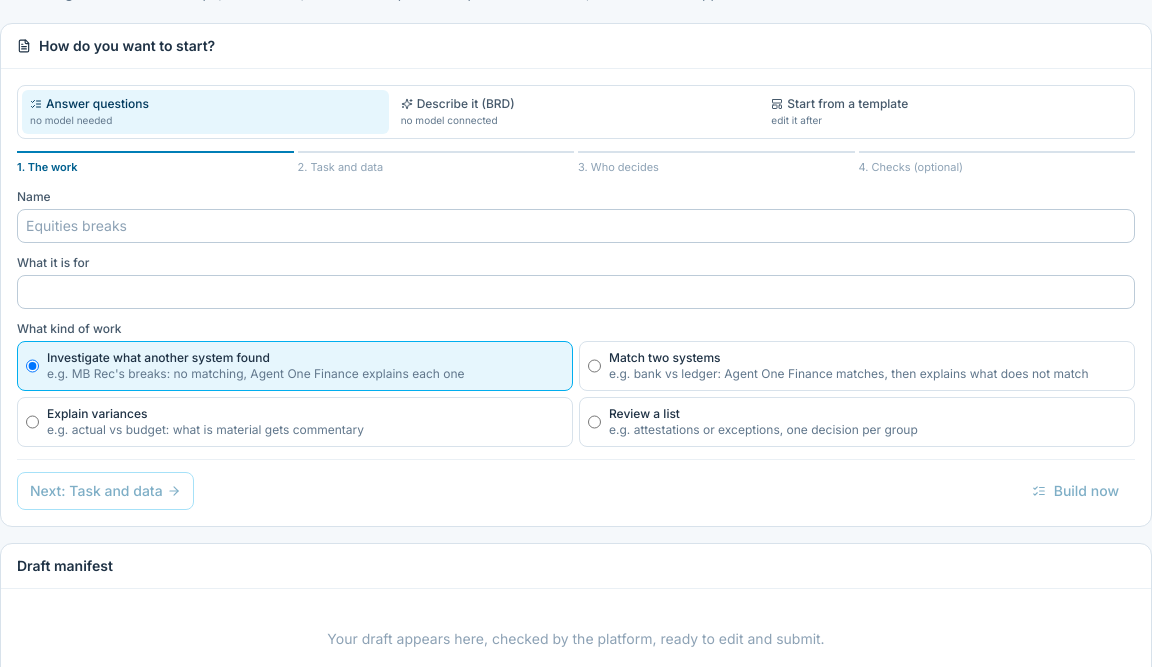
it: drafts from a BRD, shows what to fix, and submits the edited manifest
This screenshot has width=1152, height=667.
Click the tab "Describe it (BRD) no model connected": (466, 104) [393,90,759,134]
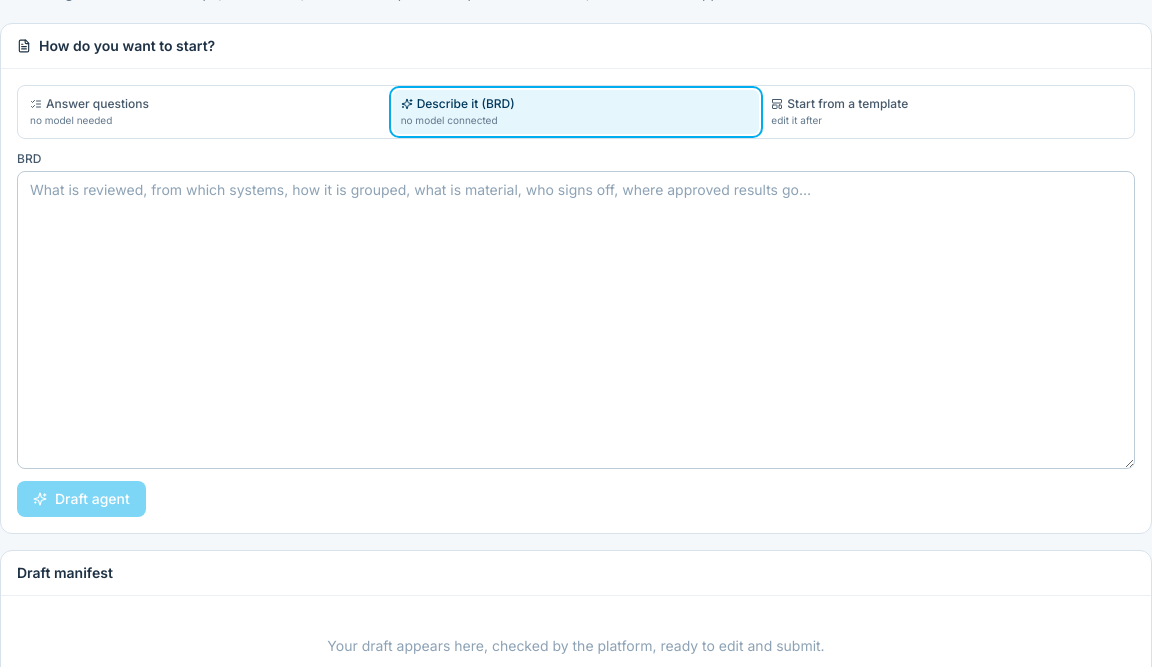
In the text box labelled "BRD": (576, 320) [17,171,1135,469], type "Monthly variance commentary"
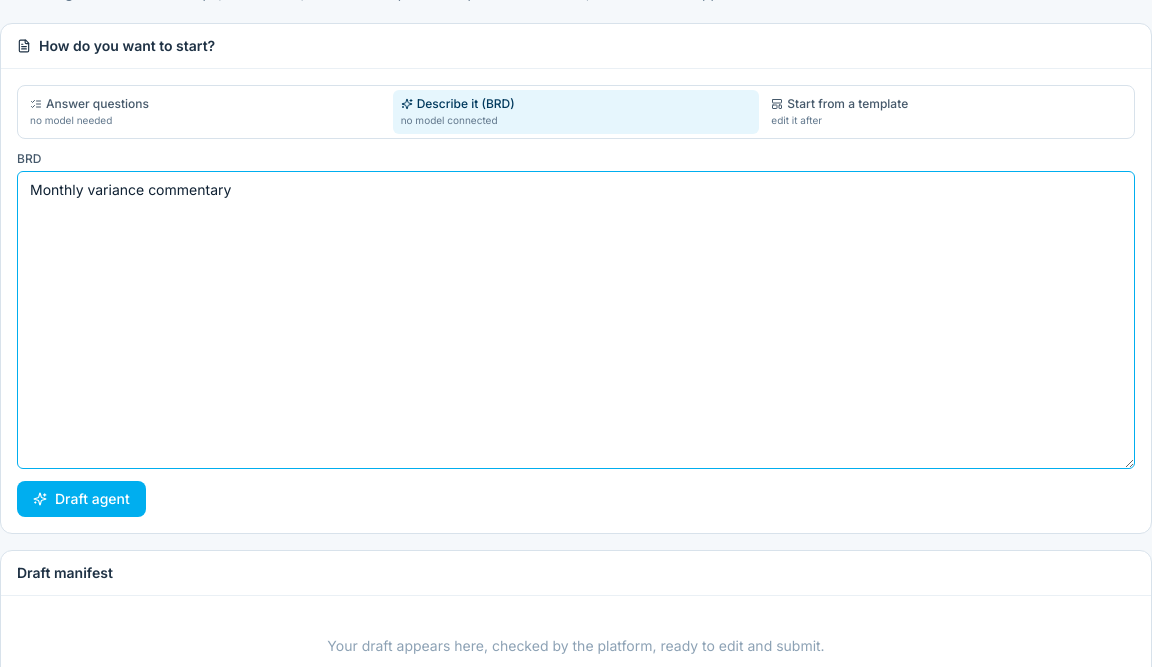
Click the button "Draft agent": (81, 499) [17,481,146,517]
(page scrolled)
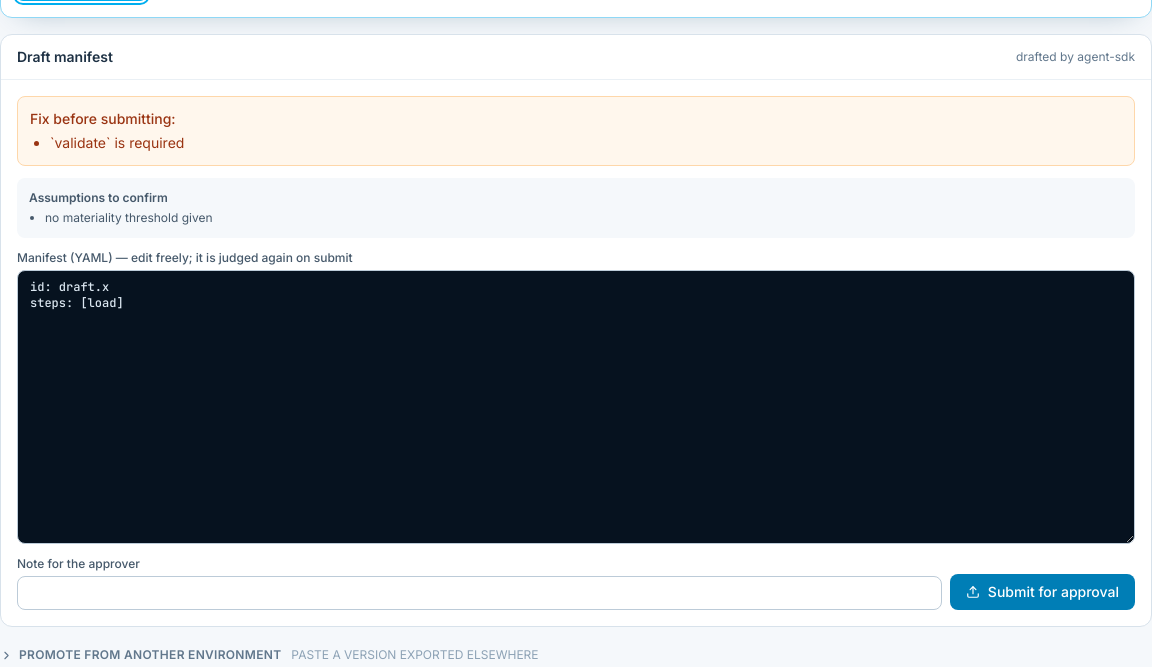
Expected: the list item "`validate` is required" is shown, [50,134,184,151]
Expected: the list item "no materiality threshold given" is shown, [45,210,212,225]
Replace the text in the text box labelled "Manifest (YAML) — edit freely; it is judged again on submit" with "id: draft.x": (576, 407) [17,270,1135,544]
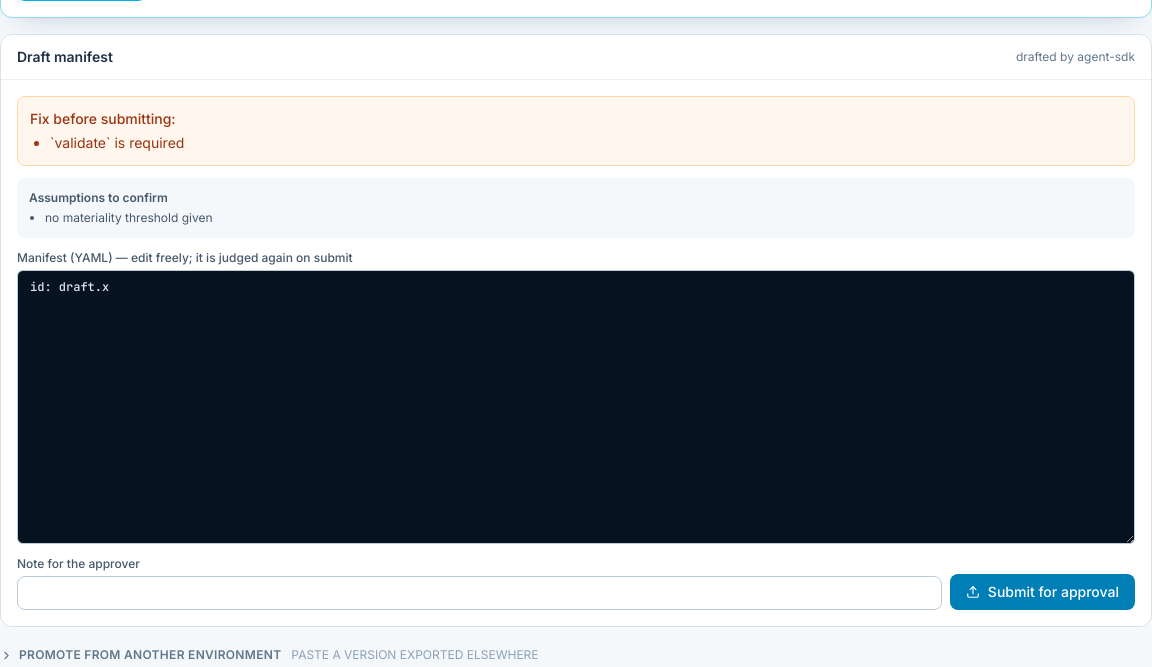
Click the button "Submit for approval": (1042, 592) [950,574,1135,610]
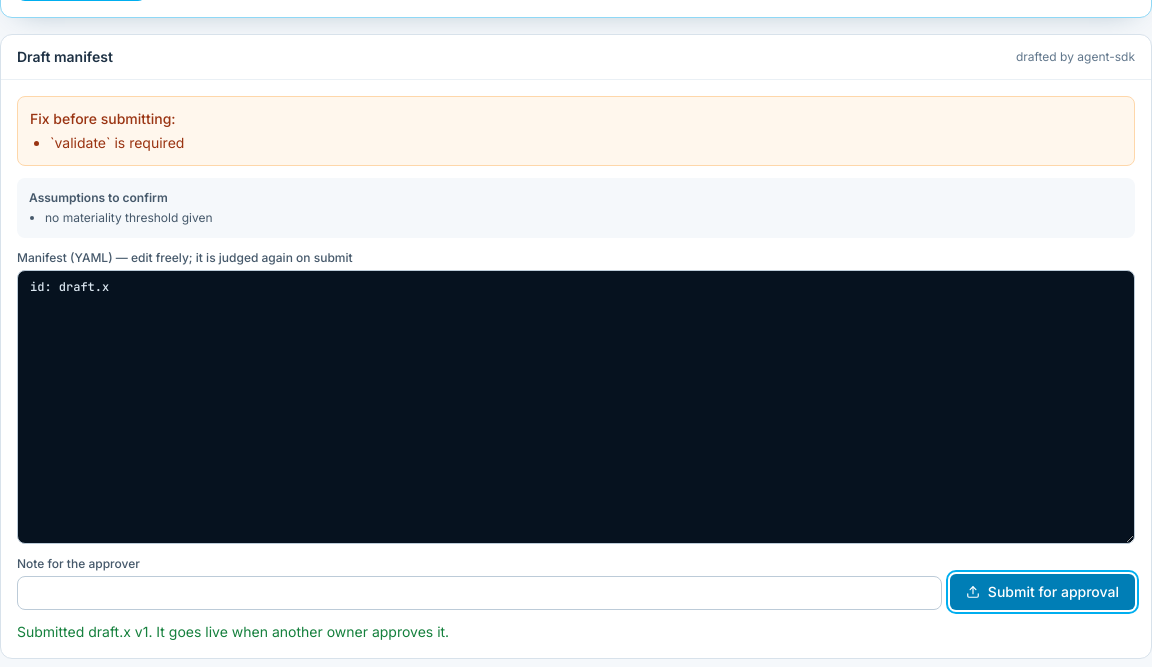
Expected: the text "goes live when another owner approves it" is shown, [148,623,449,640]
